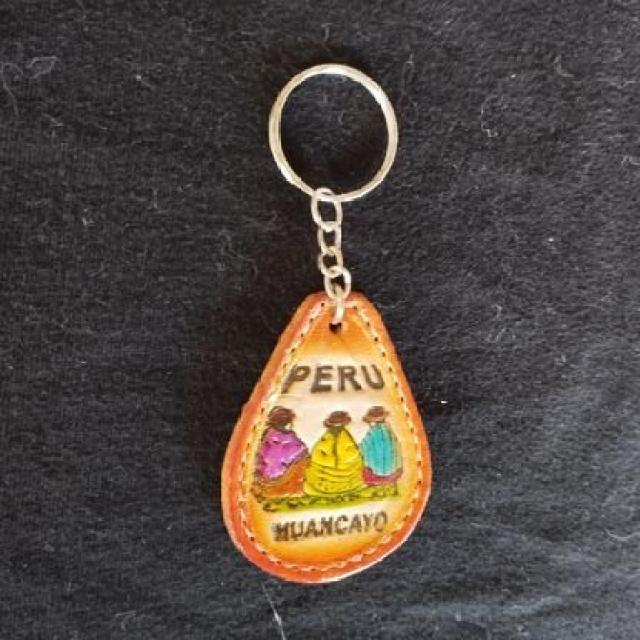Llavero: (218, 288, 434, 584)
